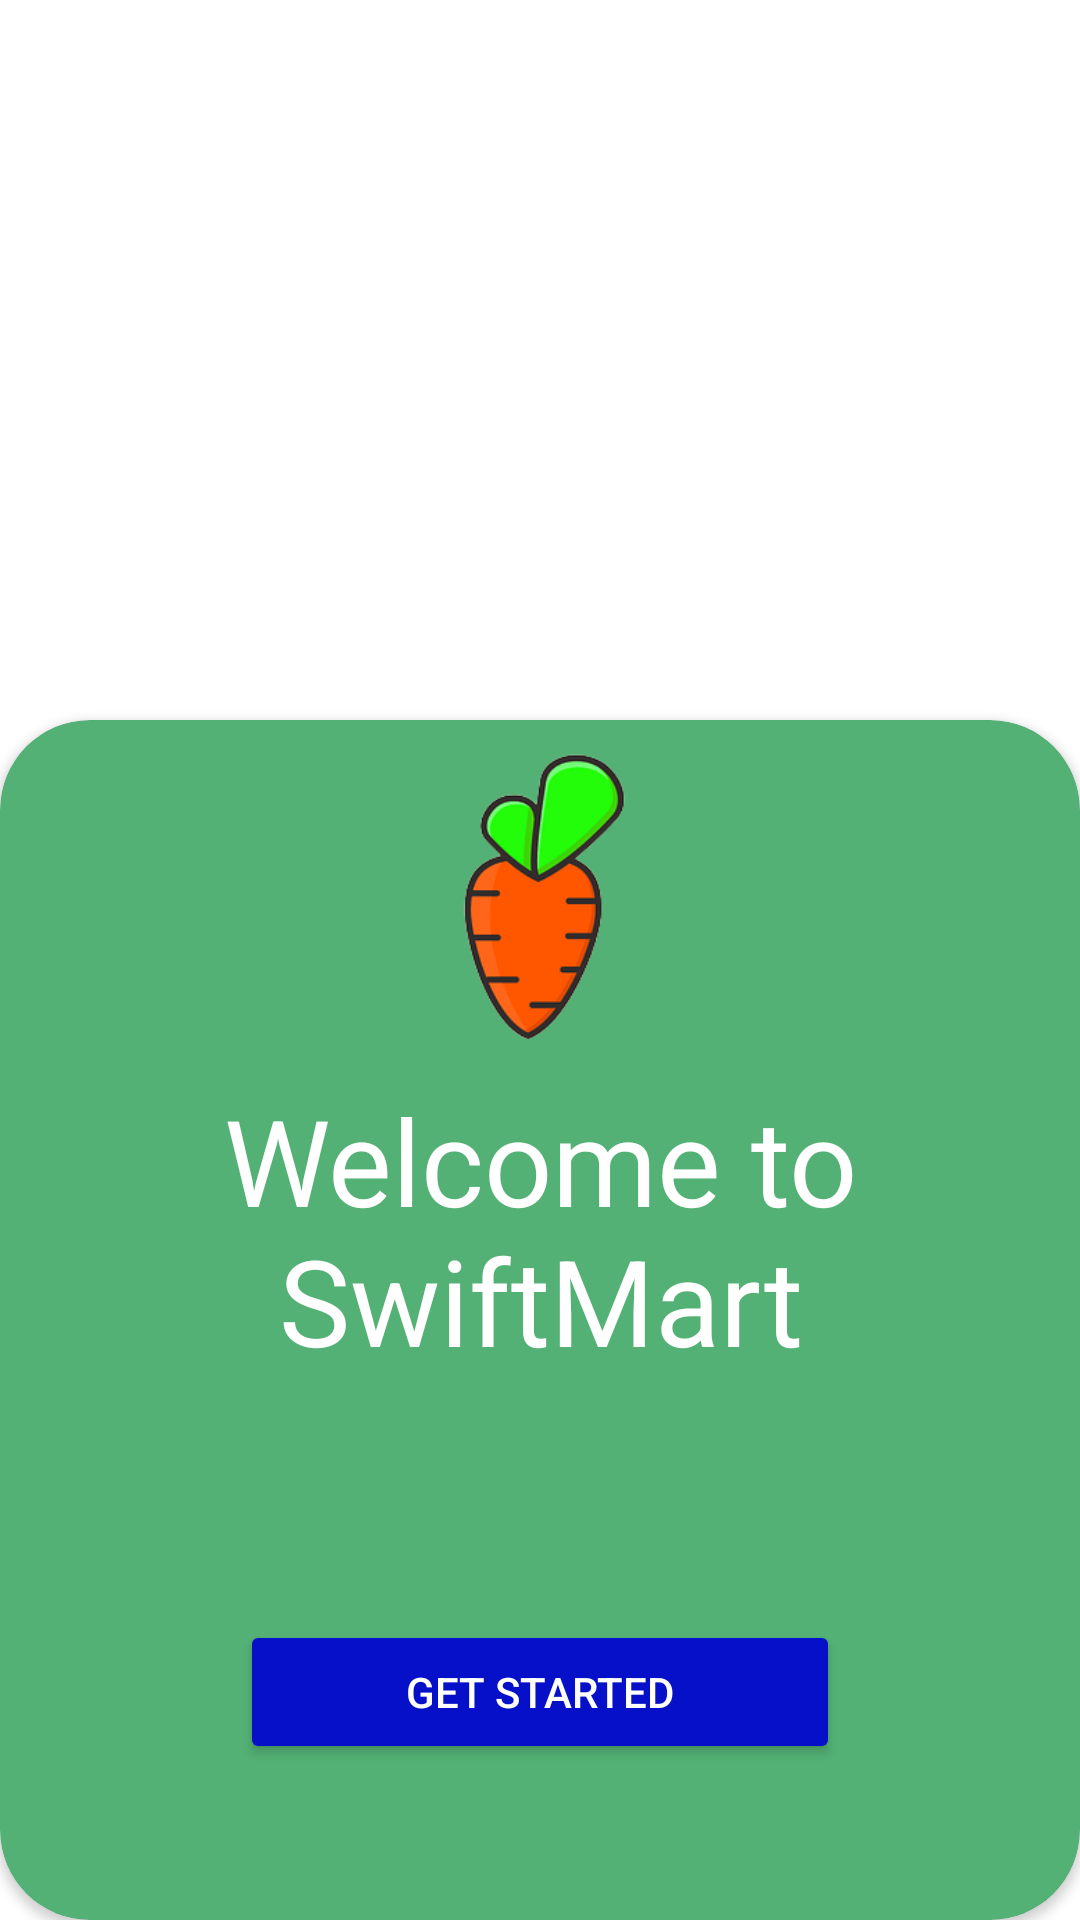

Named icons in this screenshot (1080*1920) and their bounding boxes, [x1, y1, x2, y2]:
carrot: [464, 754, 625, 1039]
